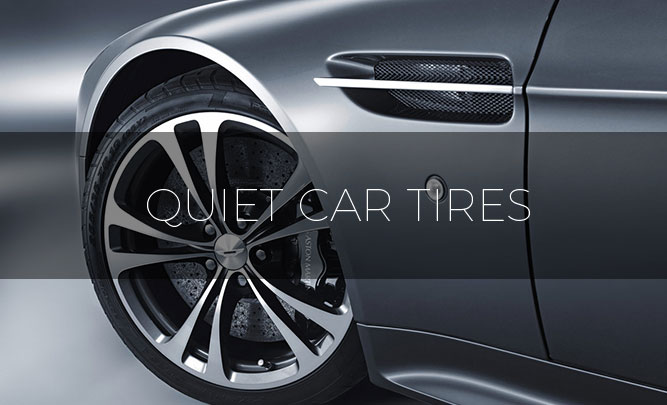tire: (88, 62, 386, 398)
